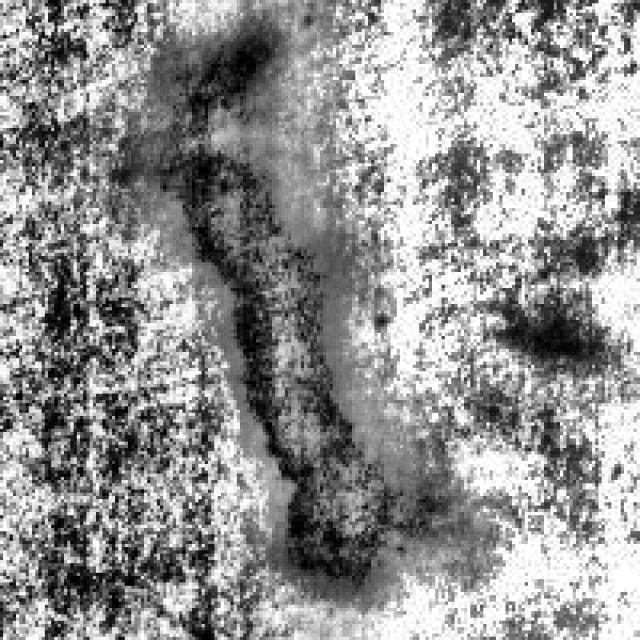Scratches: (148, 35, 438, 586)
